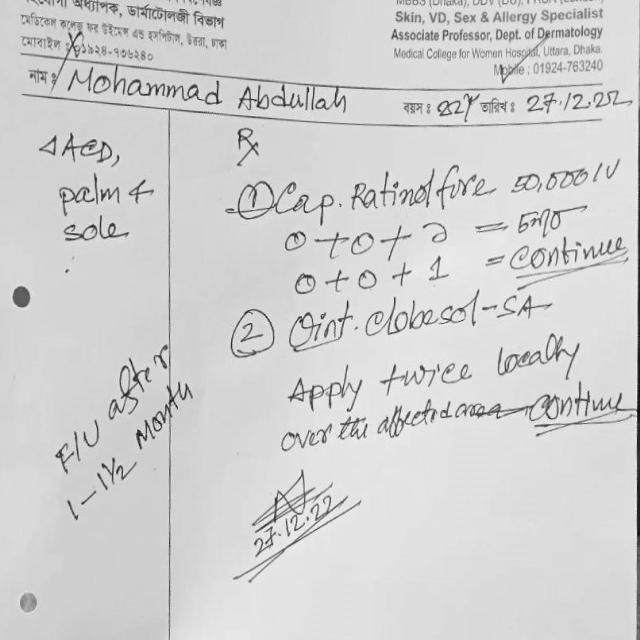medicine: (346, 164, 500, 213), (360, 291, 485, 341)
